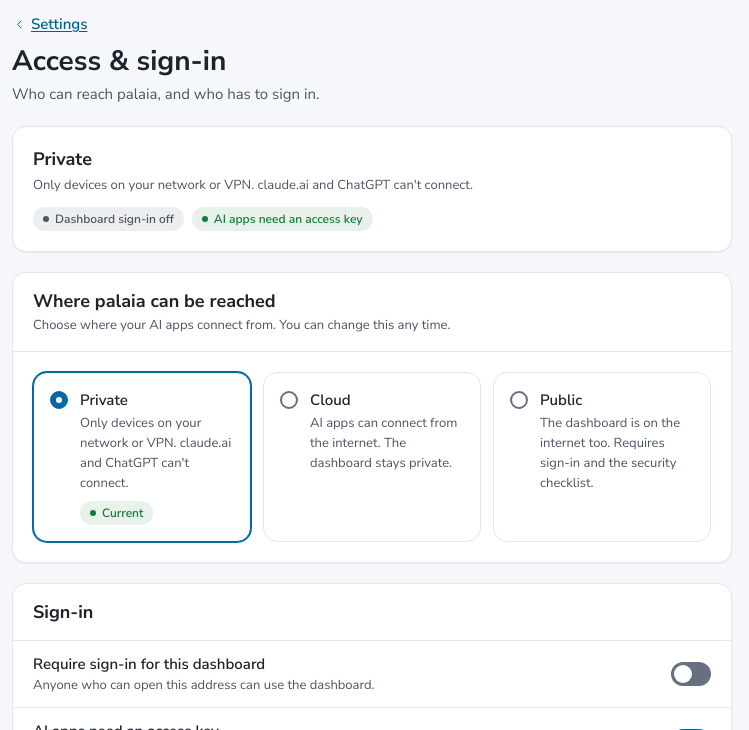
Test case: Access & sign-in: the two sign-in switches (issue 571, report §5.2) › shows the hub's reason in place when it refuses a change
Click the switch named "Require sign-in for this dashboard" in the row of "Require sign-in for this dashboard".
click(691, 674)  # box [671,662,711,686]
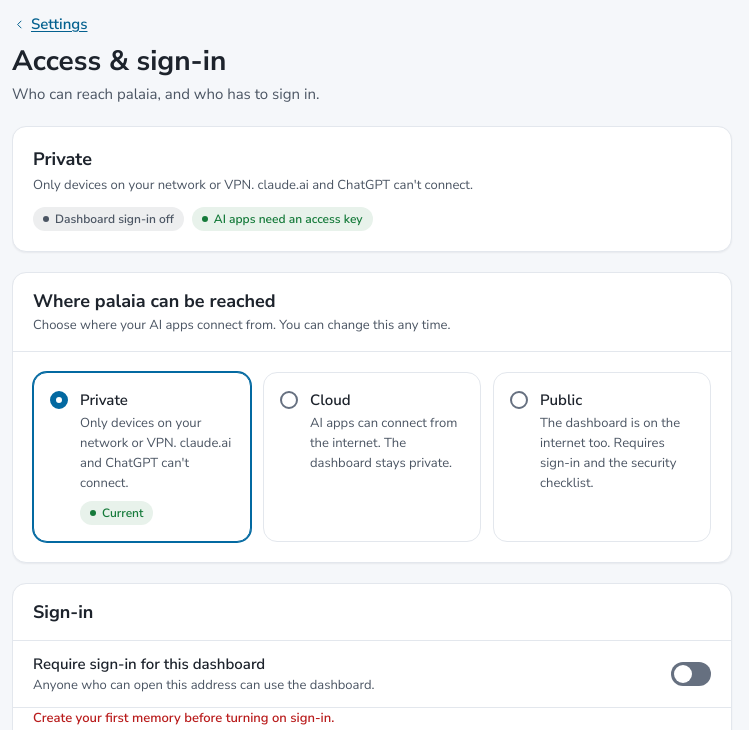
expect the text "Create your first memory before turning on sign-in." is shown: met, box [33,709,334,727]
